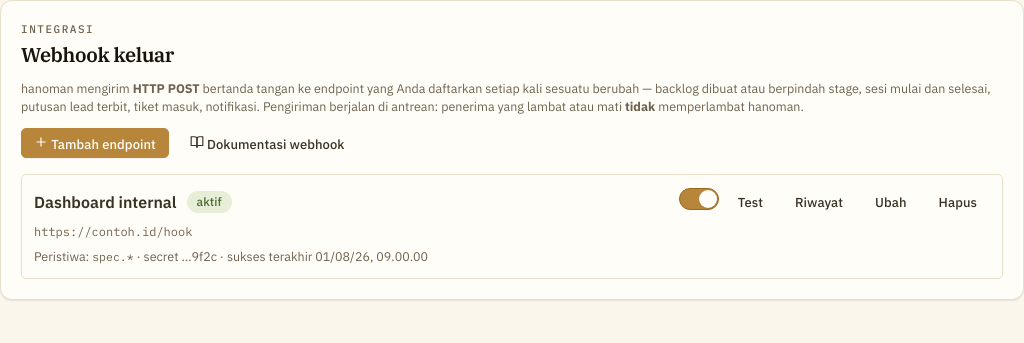
Test case: WebhooksPanel › tombol Test mengirim ping dan melaporkan hasilnya
Click the button "Test" at (750, 202), box [725,187,776,217]
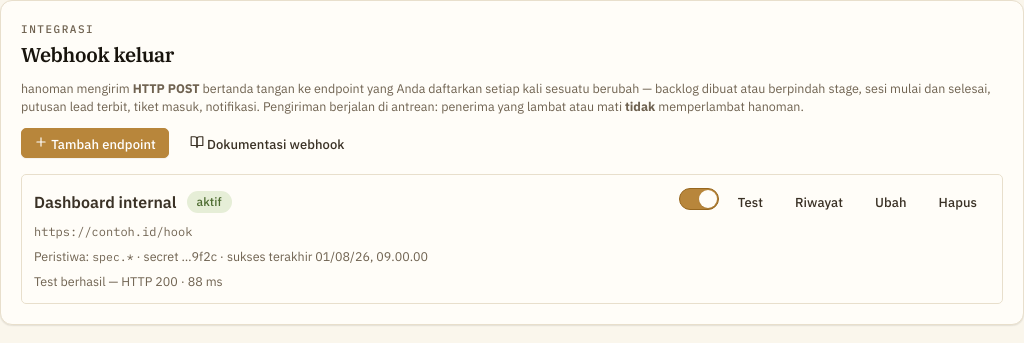
Now the text "Test berhasil — HTTP 200 · 88 ms" is shown, box [34,273,223,289]
